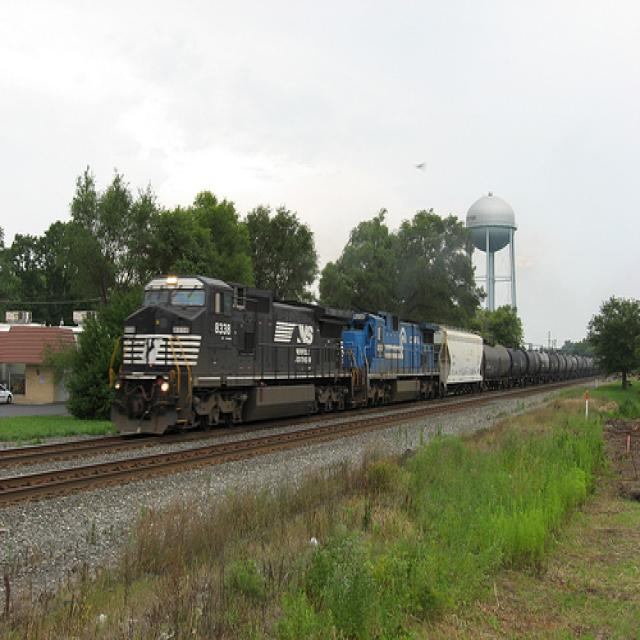train: (110, 274, 604, 438)
